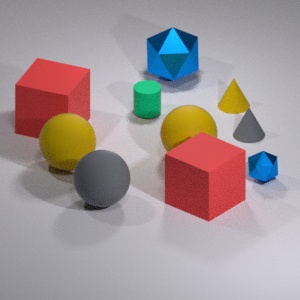lapphuong: (158, 132, 253, 219), (8, 52, 95, 142)
lucgiac: (137, 24, 200, 83), (247, 148, 281, 186)
non: (215, 76, 250, 115), (231, 108, 269, 143)
tron: (37, 113, 98, 174), (73, 152, 132, 206), (157, 101, 219, 148)
tru: (127, 77, 165, 120)
